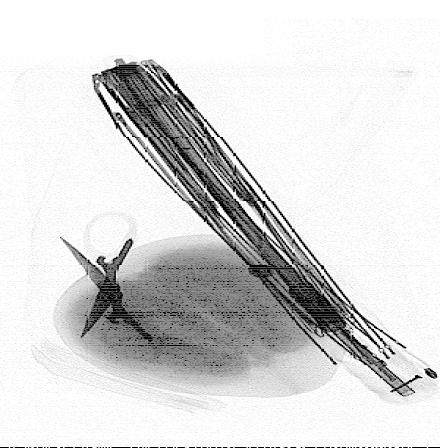Scissors: (52, 210, 166, 363)
